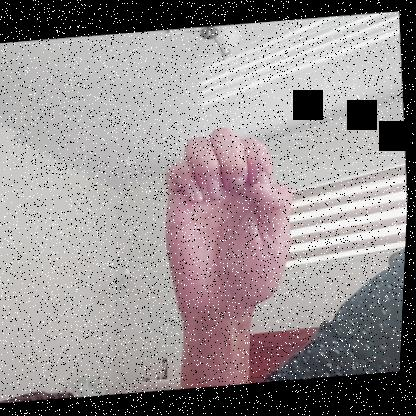E: (152, 116, 306, 323)
